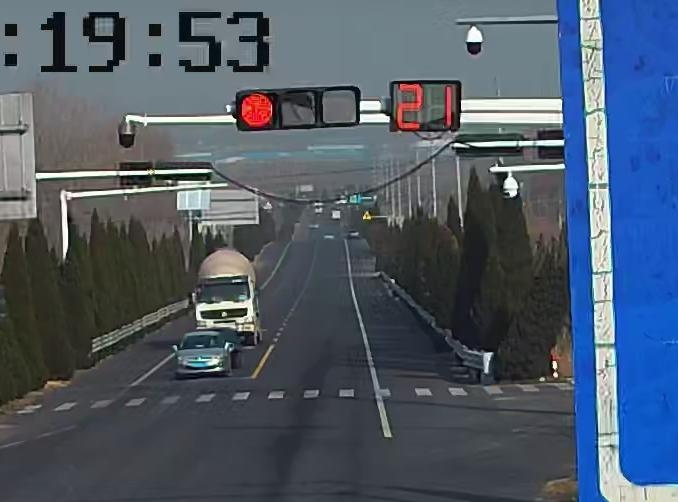red: (239, 92, 275, 128)
redtime: (396, 81, 459, 131)
